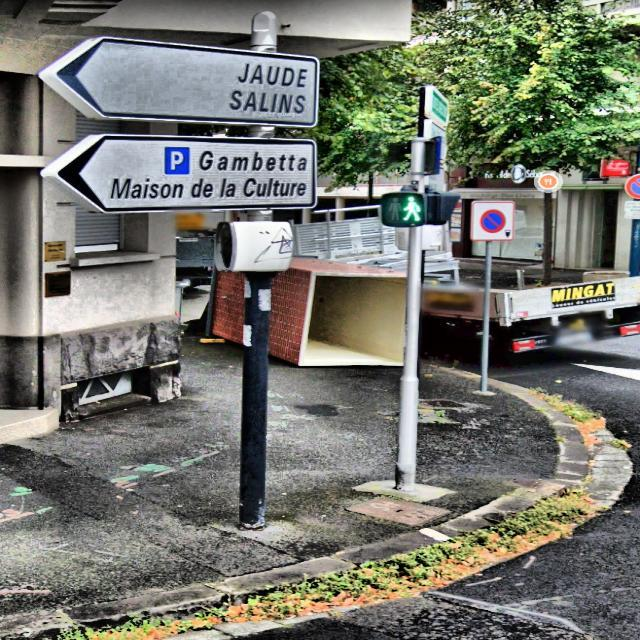green_light: (398, 193, 422, 222)
